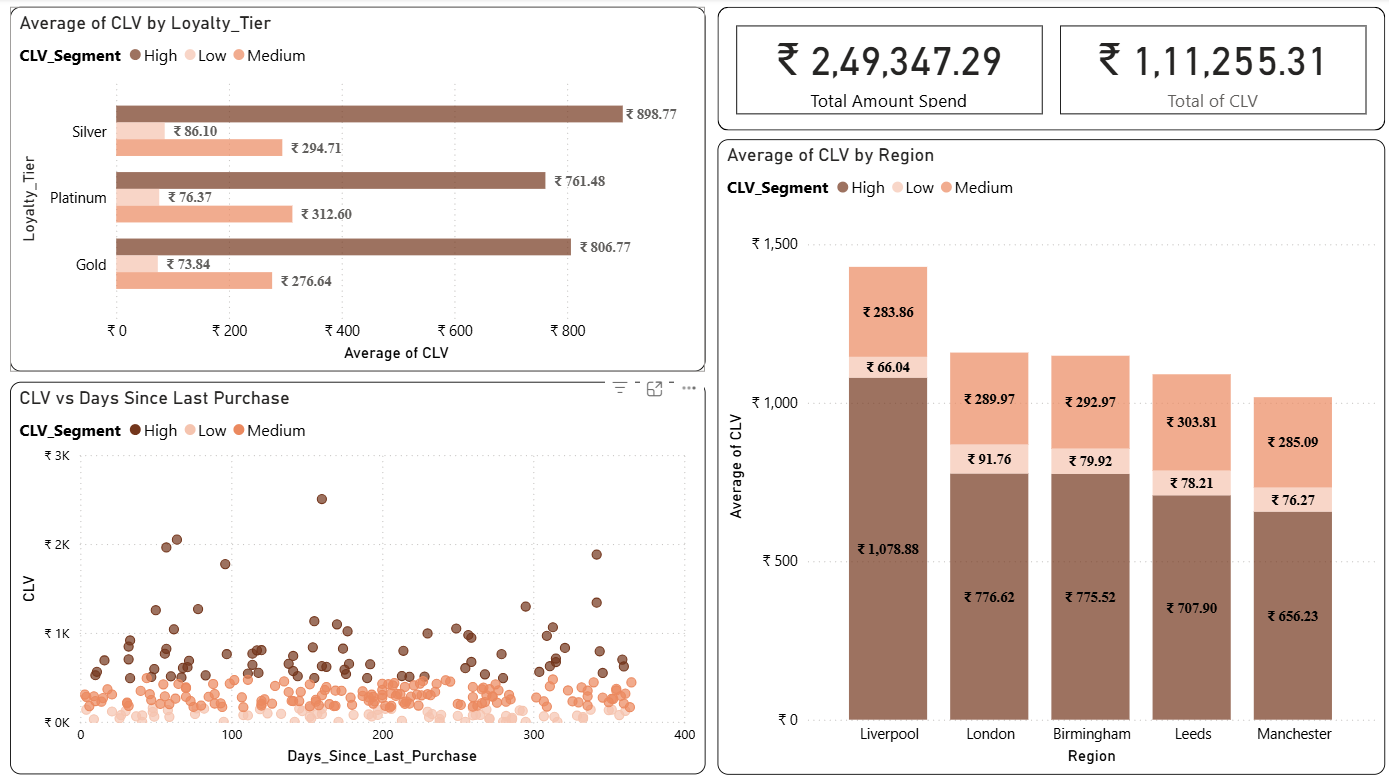

This screenshot's page, from the dashboard's own definition file:
{"tool":"powerbi","page":{"name":"CLV Analysis","canvas":[1280,720],"ordinal":4},"visuals":[{"type":"scatterChart","title":"CLV vs Days Since Last Purchase","fields":{"X":["Churn_Labelled_Customers.Days_Since_Last_Purchase"],"Y":["Customer_Demographics.CLV"],"Series":["Customer_Demographics.CLV_Segment"]},"box":[9.6,352.4,638.8,360.7],"z":0},{"type":"clusteredBarChart","title":"Average of CLV  by Loyalty_Tier","fields":{"Category":["Loyalty_Program.Loyalty_Tier"],"Y":["Avg(Customer_Demographics.CLV)"],"Series":["Customer_Demographics.CLV_Segment"]},"box":[9.6,8.4,638.8,335.6],"z":1000},{"type":"columnChart","title":"Average of CLV  by Region ","fields":{"Category":["Customer_Demographics.Region"],"Y":["Avg(Customer_Demographics.CLV)"],"Series":["Customer_Demographics.CLV_Segment"]},"box":[659.2,129.4,613.6,583.7],"z":2000},{"type":"card","fields":{"Values":["Sum(Customer_Demographics.CLV)"]},"box":[974.4,25.2,281.6,81.5],"z":3000},{"type":"card","fields":{"Values":["Sum(Customer_Demographics.Total Amt Spend)"]},"box":[676.6,25.3,281.4,81.6],"z":4000},{"type":"shape","box":[659.2,8.4,613.6,113.9],"z":5000}]}

Visuals, with their boxes in screenshot pixels (x1, y1, x2, y2), scaled from the page's 1280x720 canvas onto the 1389x778 screenshot:
"CLV vs Days Since Last Purchase" scatterChart: select_region(10, 381, 704, 771)
"Average of CLV  by Loyalty_Tier" clusteredBarChart: select_region(10, 9, 704, 372)
"Average of CLV  by Region " columnChart: select_region(715, 140, 1381, 771)
card - Sum(Customer_Demographics.CLV): select_region(1057, 27, 1363, 115)
card - Sum(Customer_Demographics.Total Amt Spend): select_region(734, 27, 1040, 116)
shape: select_region(715, 9, 1381, 132)
